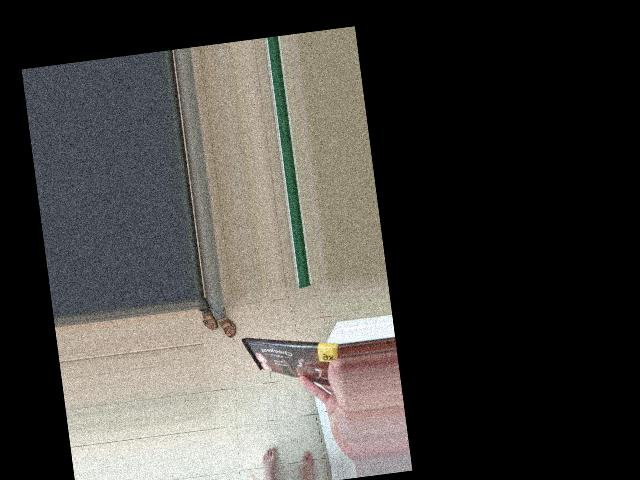chocolate: (218, 322, 310, 431)
